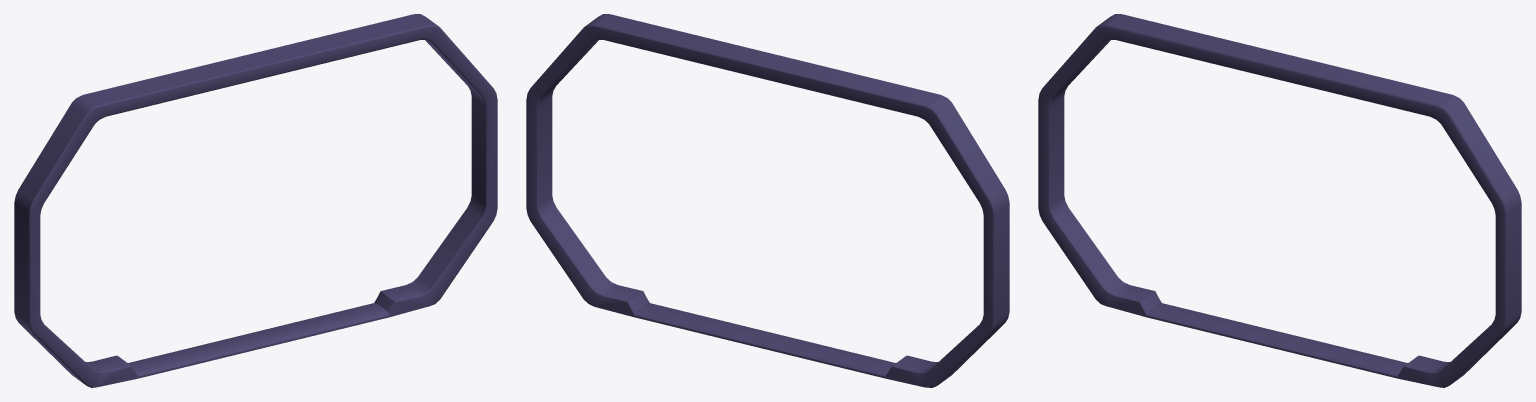
The model's file is Mh_RoomFrame.fbx.
3 views of the same model, side by side, from view 1: azimuth 30°, elevation 25°; view 2: azimuth 150°, elevation 25°; view 3: azimuth 330°, elevation 25° (orthographic).
Parts seen in each view (by area): view 1: Mh_RoomFrame; view 2: Mh_RoomFrame; view 3: Mh_RoomFrame.
Boxes of the visible parts, x1=… form: Mh_RoomFrame: x1=14, y1=14, x2=497, y2=387; Mh_RoomFrame: x1=526, y1=14, x2=1009, y2=387; Mh_RoomFrame: x1=1038, y1=14, x2=1521, y2=387.
Size of the model in its own units: 683 by 393 by 40.42.
